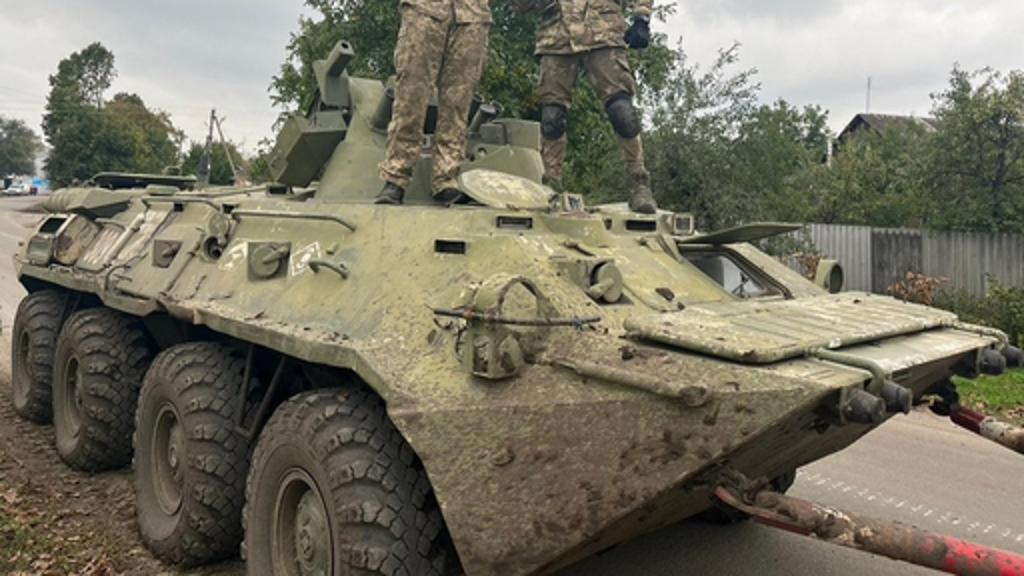APC-IFV: (0, 52, 1014, 574)
